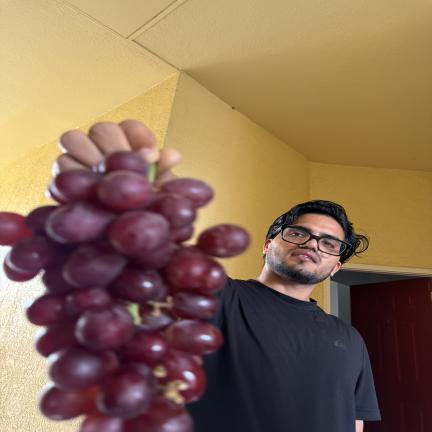grape_cluster: (0, 152, 249, 432)
